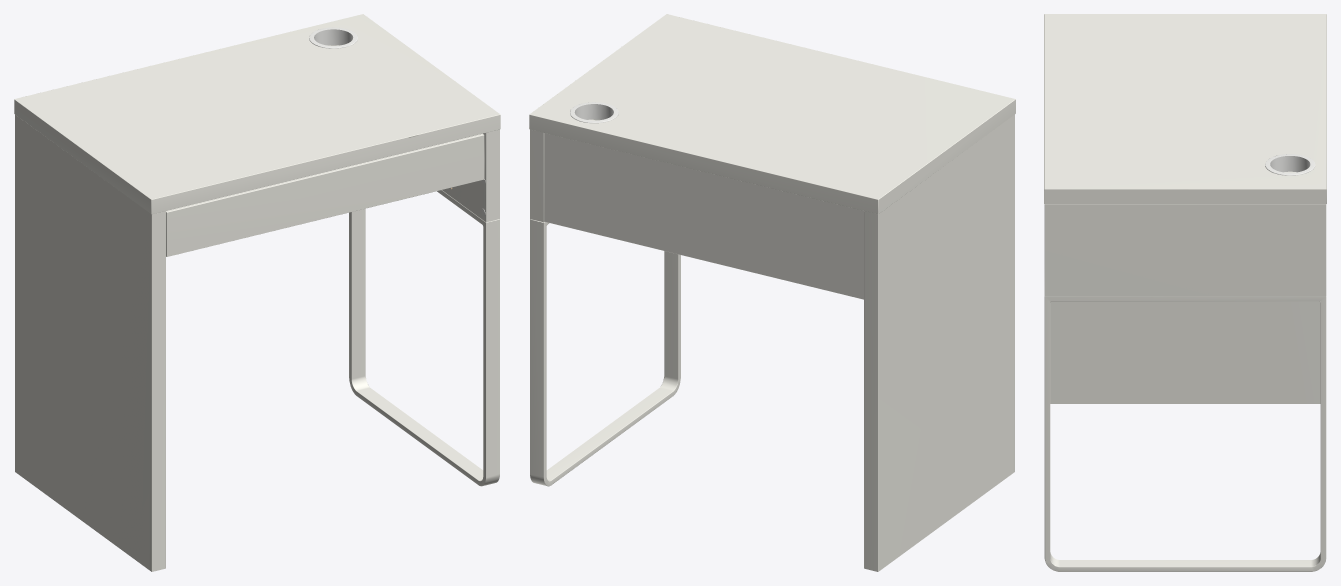
File: 06 - MICKE Desk - white 73x50 cm.glb
3 renders of one model, left to right at view 1: azimuth 30°, elevation 25°; view 2: azimuth 150°, elevation 25°; view 3: azimuth 270°, elevation 25°, orthographic. The views are drawn at different scales.
Parts seen in each view (by area): view 1: Mesh_0; view 2: Mesh_0; view 3: Mesh_0.
Boxes of the visible parts, bbox=[...] form: Mesh_0: bbox=[14, 14, 500, 571]; Mesh_0: bbox=[529, 14, 1015, 571]; Mesh_0: bbox=[1044, 14, 1326, 571].
Size of the model in its own units: 0.733 by 0.7516 by 0.5.
Materials: 1 (1 with a texture image).
